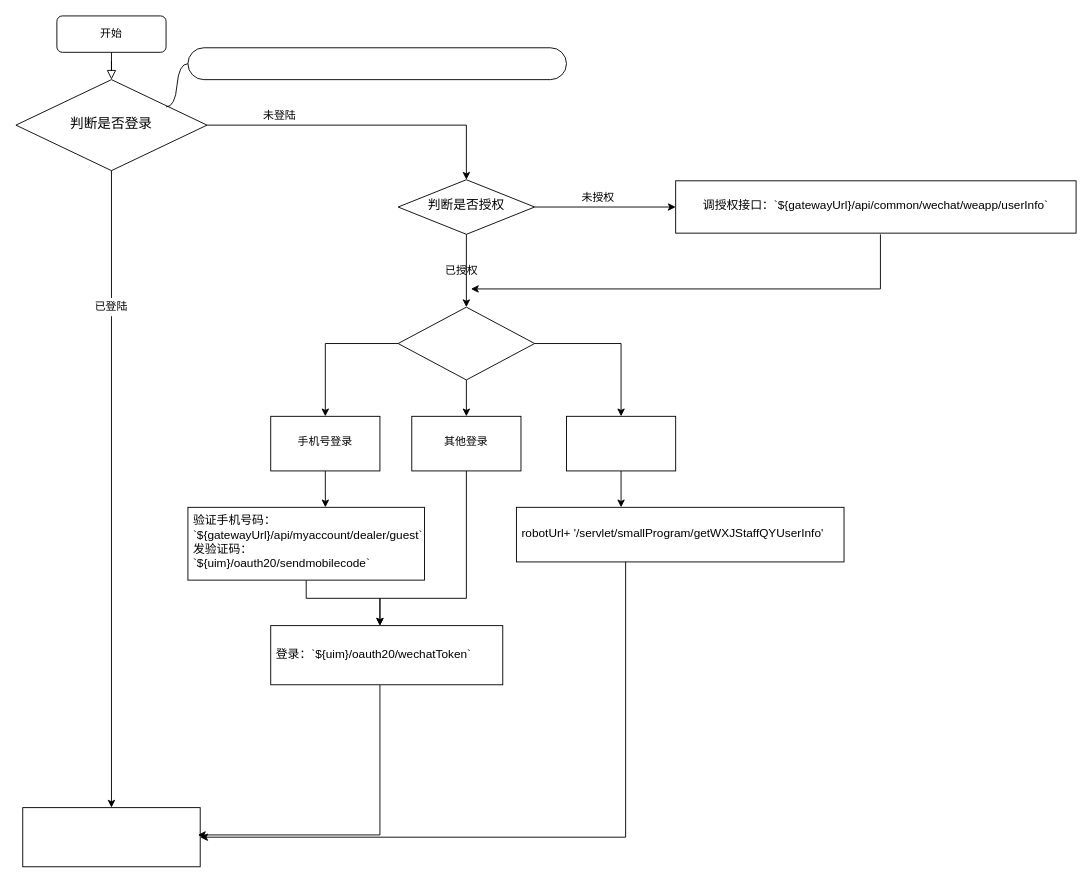
The diagram is 1092 pixels wide and 883 high, and some of its shapes have lost their labels. Here are the shapes that lost their labels. From the top down, the centre of each, then its label:
At (376,63): "`${gatewayUrl}/api/common/wechat/weapp/code2session`".
At (466,343): "登陆方式".
At (621,443): "员工登录 （企业微信）".
At (111,837): "机器人初始化 域名 + '/servlet/appChat?s=p'".
